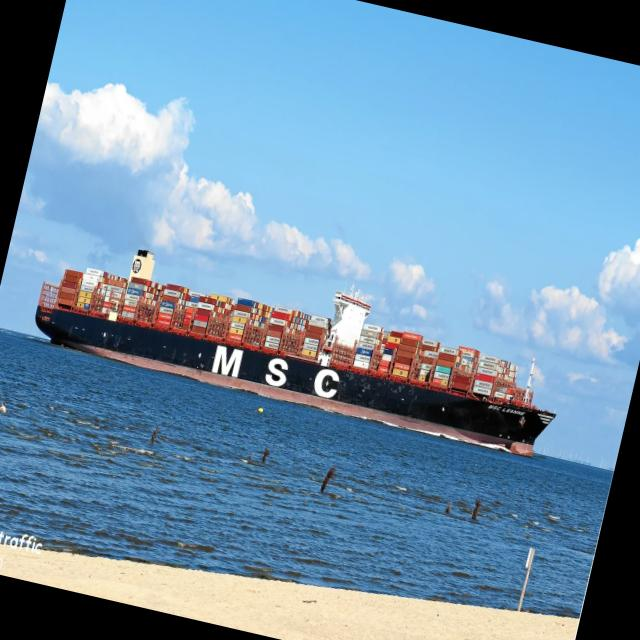Cargo: (35, 249, 554, 456)
